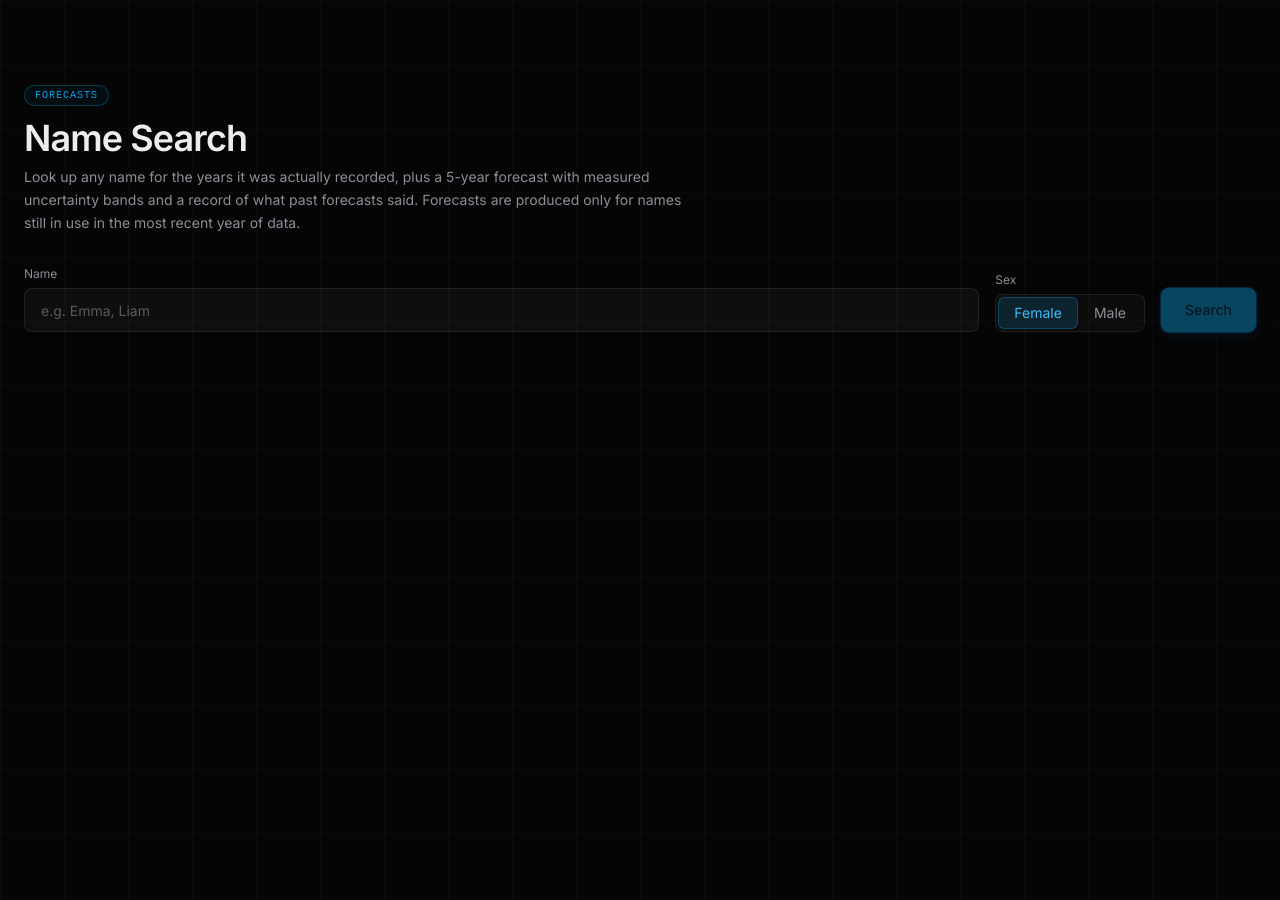
Test: SearchPage forecast absence for a recent arrival › explains that a name recorded in the newest year has too little history
Type "Mateo" into the field labelled "Name" at (502, 310), box [24,288,979,332]
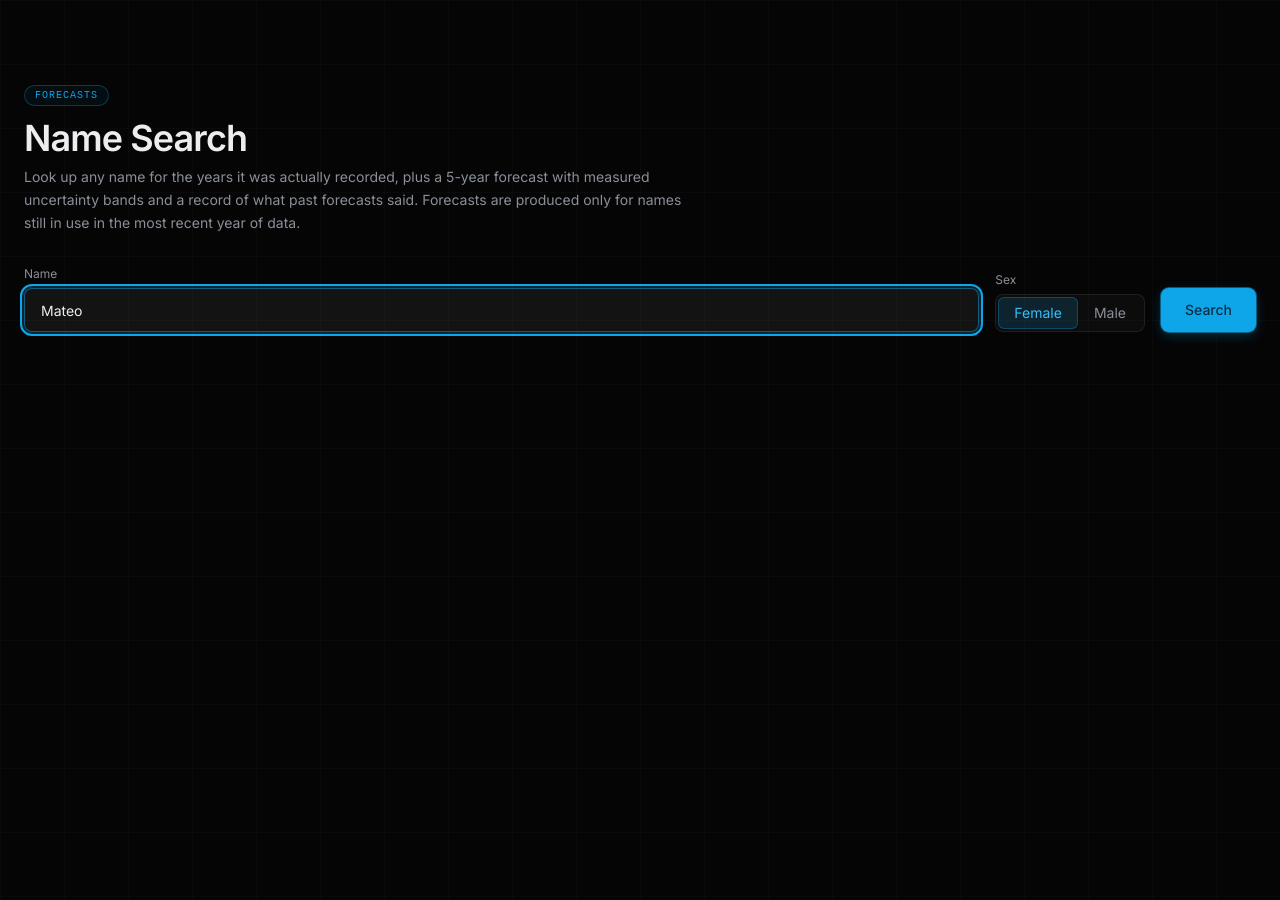
Click the button "Search" at (1208, 310), box [1161,288,1256,332]
(page scrolled)
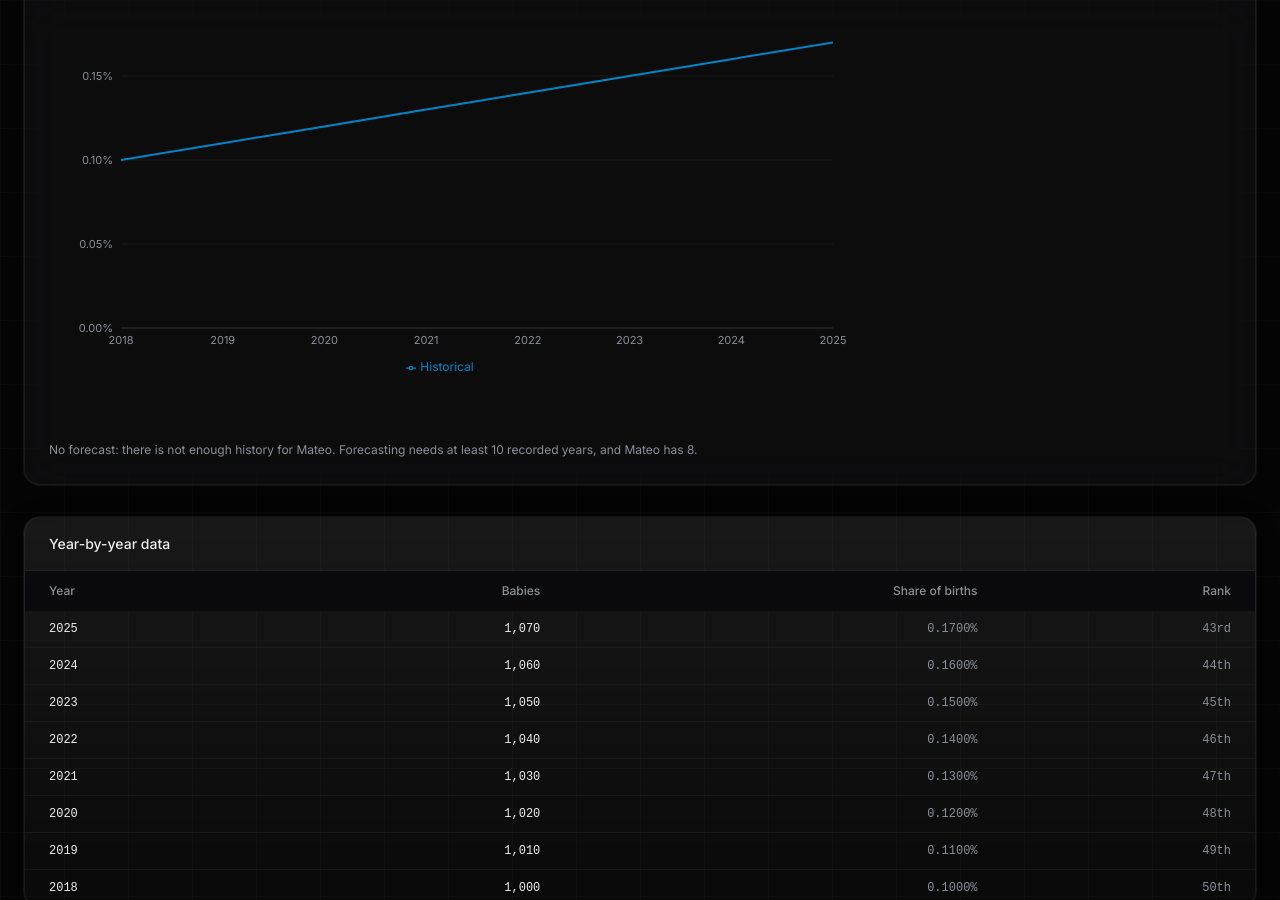
Expected: the text "not enough history" does not show "not in current use", [49,442,698,457]
Expected: the text "not enough history" shows "10 recorded years", [49,442,698,457]
